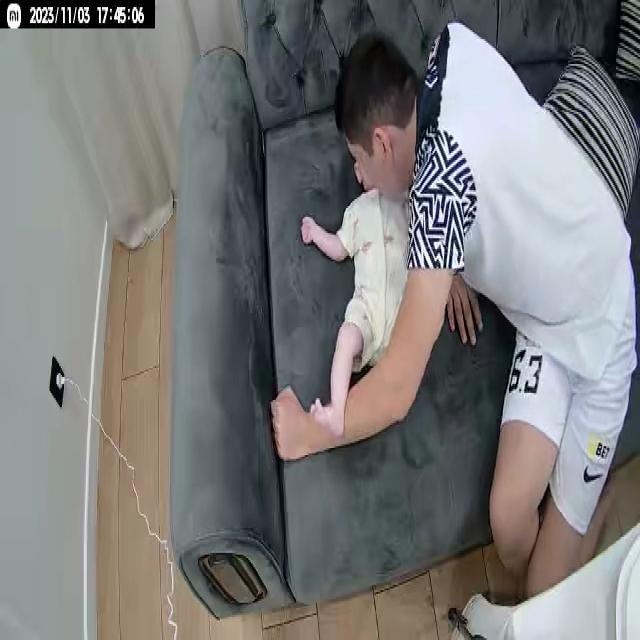baby: (296, 160, 422, 444)
